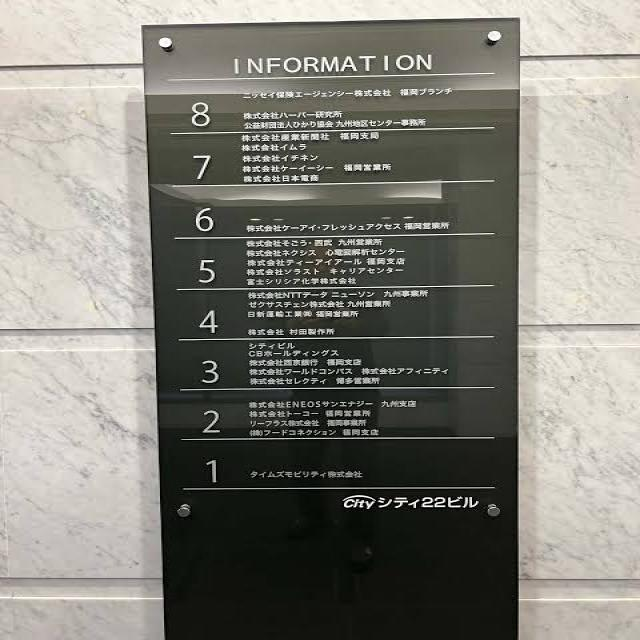building: (377, 494, 481, 510)
facility: (239, 86, 457, 101), (242, 220, 452, 234), (239, 117, 430, 130), (246, 366, 451, 377), (245, 398, 423, 410), (244, 289, 433, 300), (240, 162, 397, 174), (242, 247, 408, 258), (236, 131, 383, 143), (247, 468, 366, 482), (243, 267, 409, 277), (245, 257, 408, 267), (246, 299, 394, 310), (242, 238, 385, 249), (246, 376, 385, 386), (244, 409, 375, 419), (238, 109, 347, 121), (245, 309, 361, 320), (246, 418, 371, 428), (245, 428, 381, 437), (245, 357, 364, 367), (244, 276, 359, 286), (245, 326, 340, 337), (238, 153, 321, 164), (244, 349, 343, 358), (241, 173, 323, 183), (238, 143, 311, 153), (245, 341, 298, 350)
floor: (192, 306, 229, 336), (194, 406, 228, 436), (190, 203, 220, 234), (195, 355, 225, 386), (192, 255, 220, 286), (199, 455, 227, 485), (187, 153, 216, 181), (188, 100, 215, 129)
